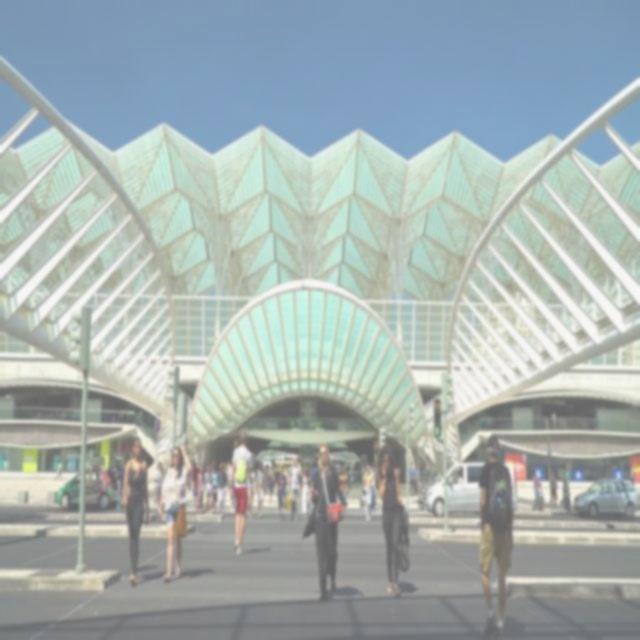pessoa: (477, 432, 517, 639), (305, 438, 350, 606), (156, 441, 193, 587), (120, 431, 151, 588), (375, 442, 405, 600), (228, 428, 254, 558), (116, 560, 218, 583), (286, 454, 303, 522), (316, 578, 366, 600), (492, 612, 524, 639), (362, 462, 376, 522), (149, 460, 164, 515), (274, 464, 289, 519), (244, 459, 256, 522), (254, 457, 266, 520), (216, 461, 228, 519), (192, 462, 205, 514), (300, 464, 312, 520), (224, 458, 236, 514), (236, 542, 274, 556), (114, 462, 124, 512), (265, 462, 276, 507), (337, 464, 349, 502), (561, 476, 573, 514), (530, 466, 540, 511), (211, 458, 219, 514), (395, 578, 419, 596), (548, 466, 558, 509), (192, 458, 200, 509), (370, 458, 378, 508), (536, 479, 546, 514), (542, 410, 558, 430), (203, 462, 214, 490), (408, 460, 416, 498), (204, 474, 214, 502), (52, 456, 62, 483), (412, 463, 420, 496), (452, 468, 464, 487), (564, 461, 570, 491), (628, 465, 636, 487), (283, 464, 290, 487), (434, 424, 441, 436)
